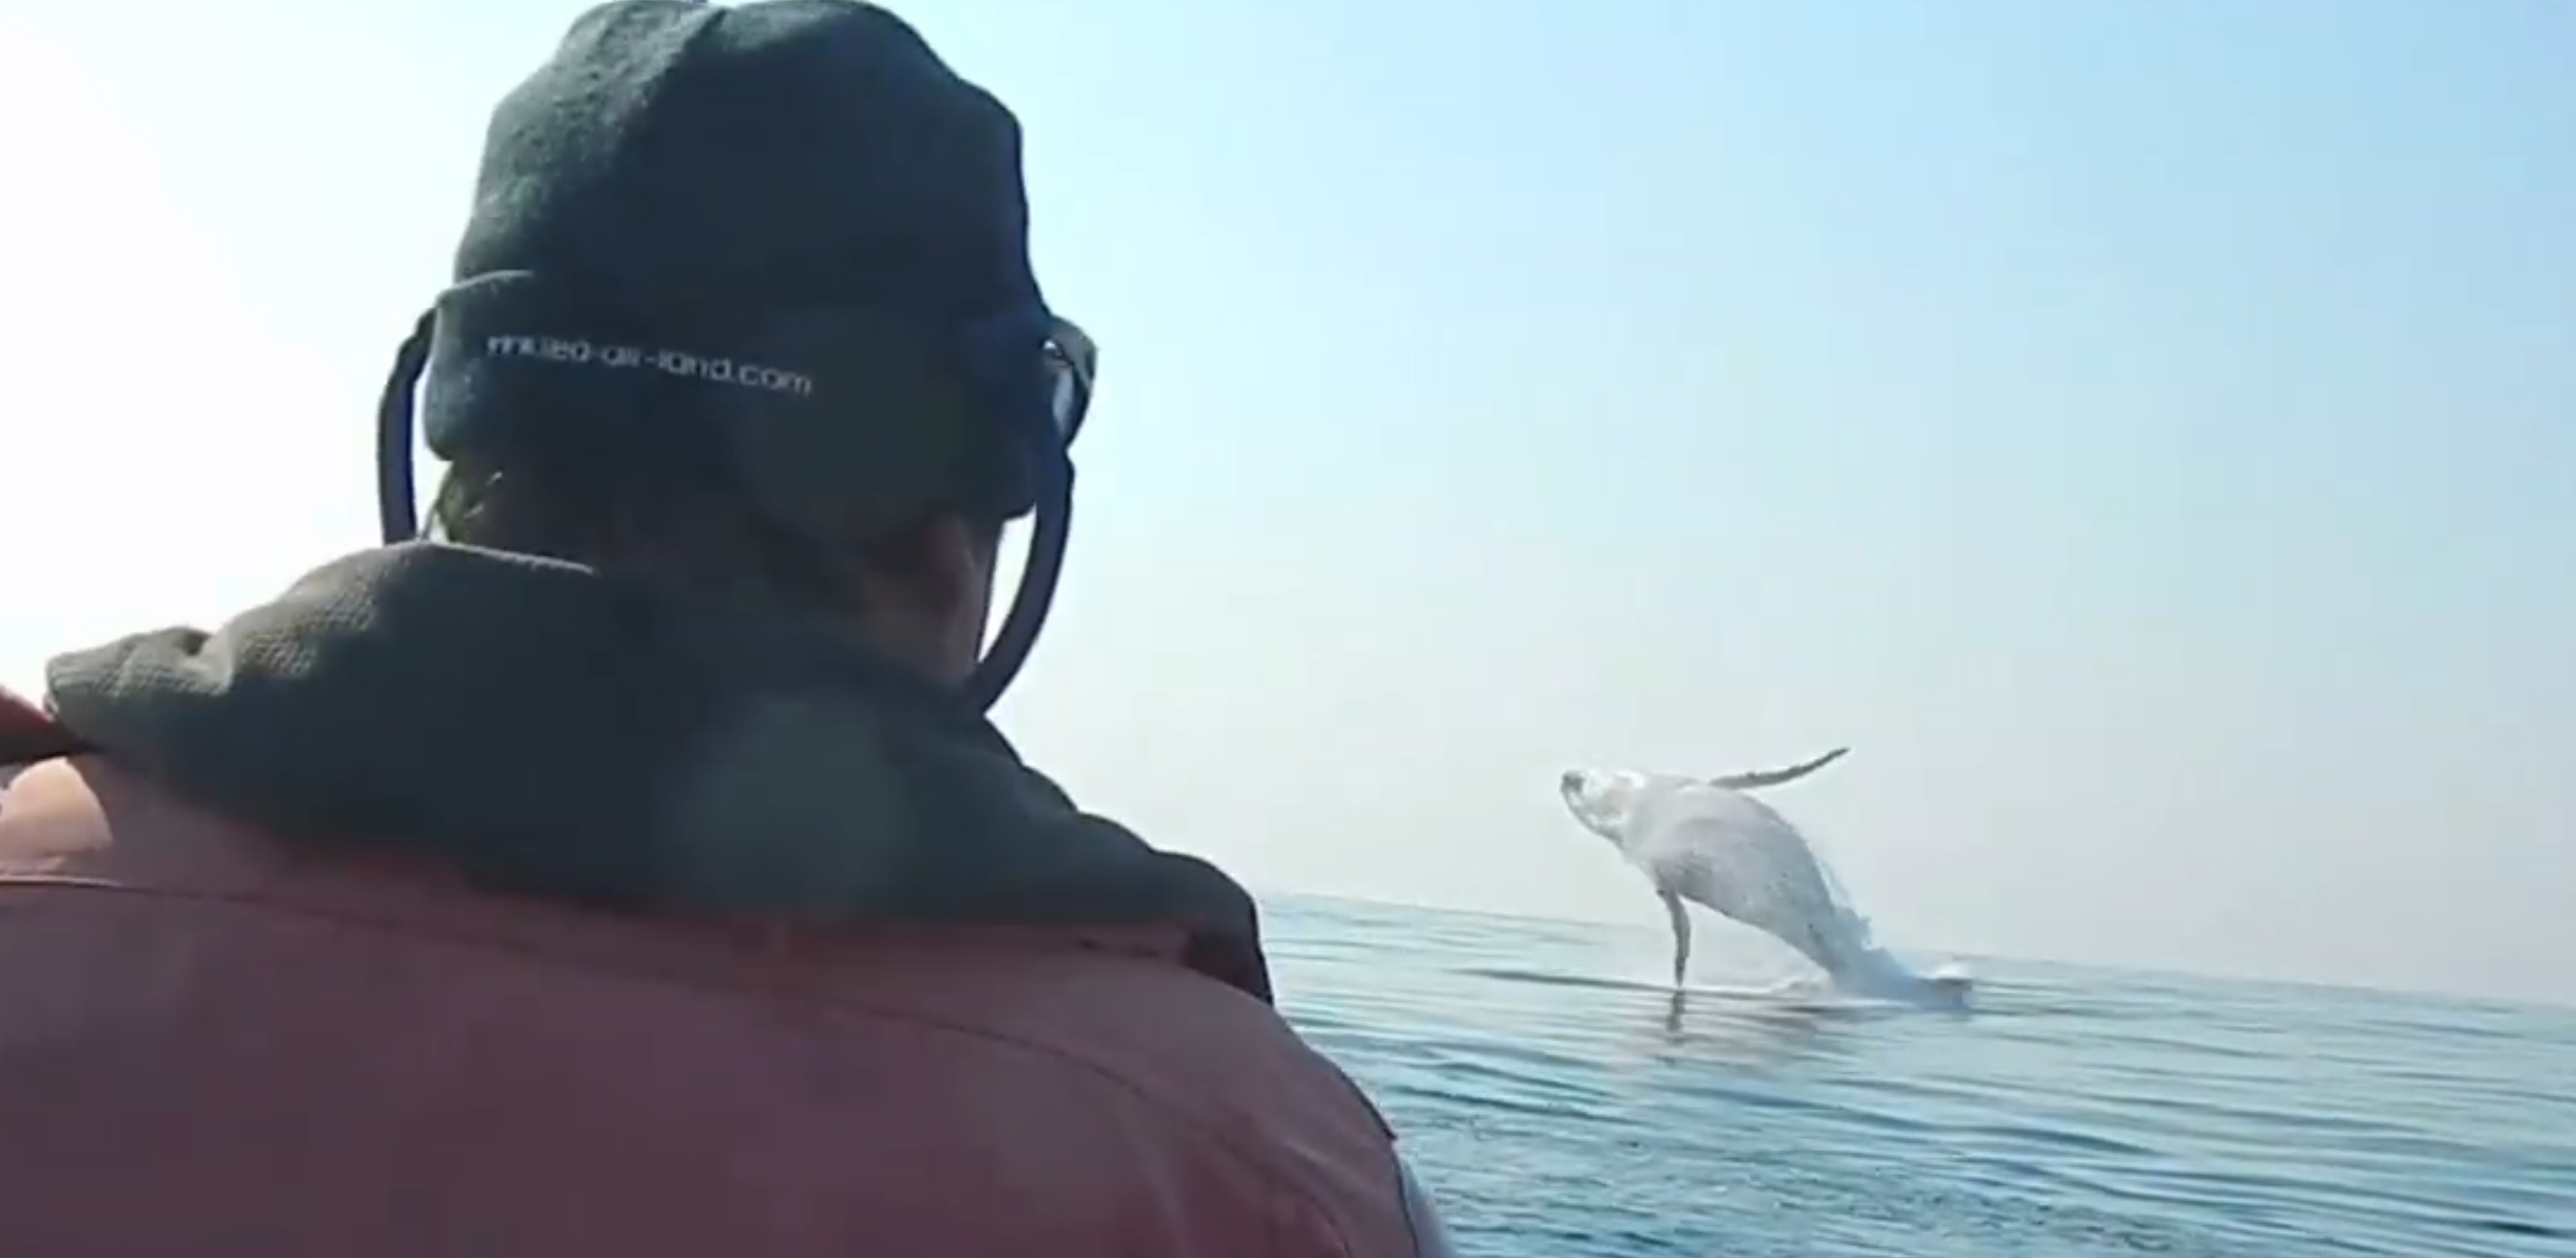humpback: (1556, 754, 1978, 1013)
